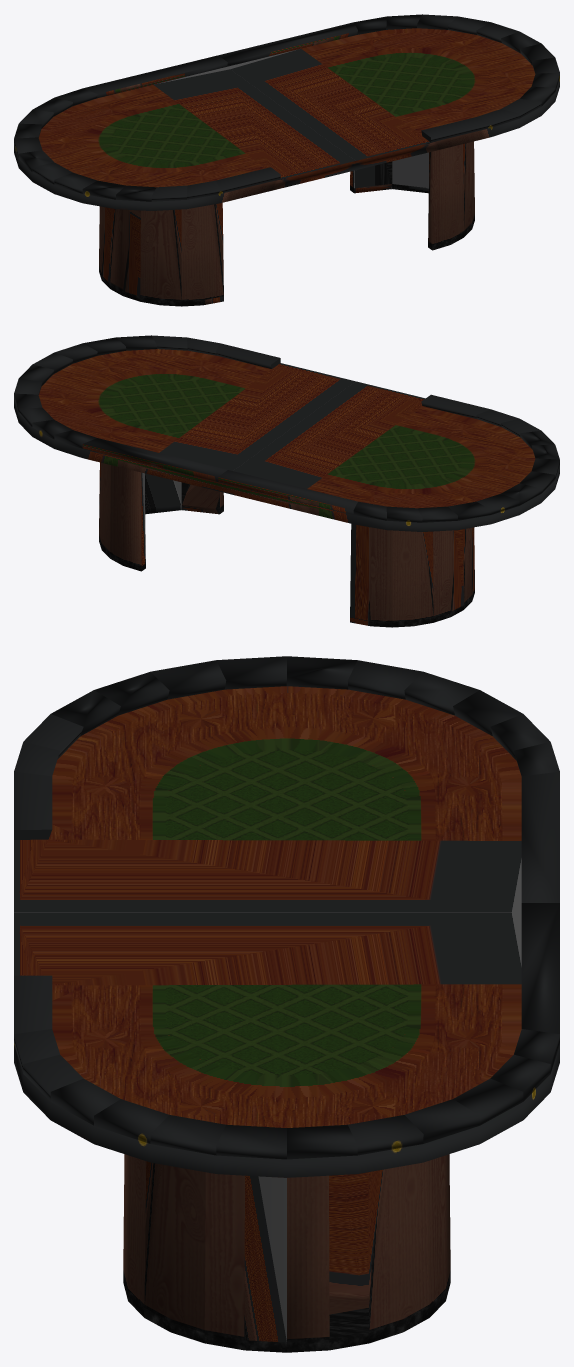
Rendered from big_pokertable_phy.fbx.
The picture shows the model from 3 angles, top to bottom: view 1: azimuth 30°, elevation 25°; view 2: azimuth 150°, elevation 25°; view 3: azimuth 270°, elevation 25°; orthographic projection. The views are drawn at different scales.
Visible parts, largest first — view 1: Cylinder.009, Cylinder.019, Cylinder.014, Cylinder.022, Cylinder.012, Cylinder.046, Cylinder.037, Cylinder.013, Cylinder.008, Cylinder.021, Cylinder.024, Cylinder.016 (+24 smaller); view 2: Cylinder.009, Cylinder.018, Cylinder.015, Cylinder.008, Cylinder.016, Cylinder.037, Cylinder.046, Cylinder.021, Cylinder.022, Cylinder.013, Cylinder.012, Cylinder.024 (+24 smaller); view 3: Cylinder.009, Cylinder.020, Cylinder.017, Cylinder.013, Cylinder.021, Cylinder.046, Cylinder.037, Cylinder.008, Cylinder.022, Cylinder.010, Cylinder.024, Cylinder.030 (+23 smaller).
Boxes of the visible parts, x1,y1,x2,y2 form: Cylinder.009: (14,28,559,210); Cylinder.019: (181,203,223,306); Cylinder.014: (140,209,181,306); Cylinder.022: (428,144,463,250); Cylinder.012: (110,208,140,301); Cylinder.046: (83,55,227,98); Cylinder.037: (219,22,357,66); Cylinder.013: (392,152,428,193); Cylinder.008: (350,161,392,193); Cylinder.021: (463,141,474,236); Cylinder.024: (421,117,491,142); Cylinder.016: (99,206,110,288); Cylinder.009: (14,349,559,531); Cylinder.018: (350,524,392,627); Cylinder.015: (392,530,433,627); Cylinder.008: (110,465,145,571); Cylinder.016: (433,529,463,622); Cylinder.037: (82,438,227,481); Cylinder.046: (218,470,357,514); Cylinder.021: (145,473,181,514); Cylinder.022: (181,482,223,514); Cylinder.013: (99,462,110,557); Cylinder.012: (463,527,474,609); Cylinder.024: (216,343,280,368); Cylinder.009: (14,686,559,1177); Cylinder.020: (204,1172,286,1352); Cylinder.017: (287,1172,369,1352); Cylinder.013: (368,1161,429,1343); Cylinder.021: (144,1161,205,1343); Cylinder.046: (521,771,559,902); Cylinder.037: (521,903,559,1033); Cylinder.008: (427,1154,450,1317); Cylinder.022: (123,1154,146,1317); Cylinder.010: (14,771,52,839); Cylinder.024: (14,975,52,1033); Cylinder.030: (216,1124,286,1159).
Size of the model in its own units: 310 by 81.54 by 145.
